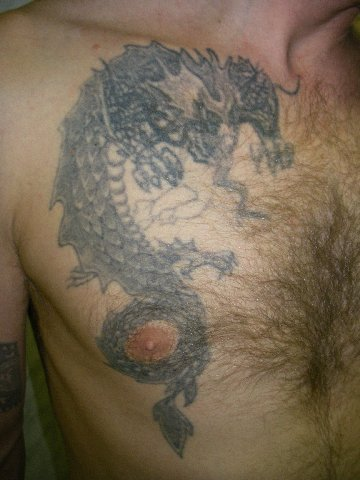tatu6_drakon: (30, 24, 311, 451)
